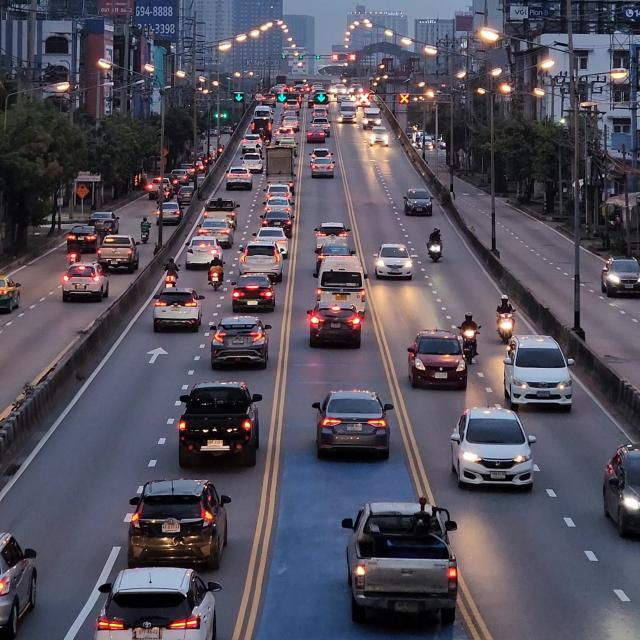Car: (346, 503, 465, 622), (128, 482, 232, 576), (98, 571, 226, 640), (178, 381, 264, 469), (456, 407, 540, 494), (310, 392, 396, 468), (504, 332, 580, 413), (405, 328, 470, 393), (207, 315, 276, 370), (306, 299, 366, 348), (318, 259, 369, 316), (152, 291, 207, 334), (62, 262, 114, 303), (599, 256, 640, 300), (240, 244, 285, 282), (375, 242, 416, 282), (400, 188, 434, 220)
